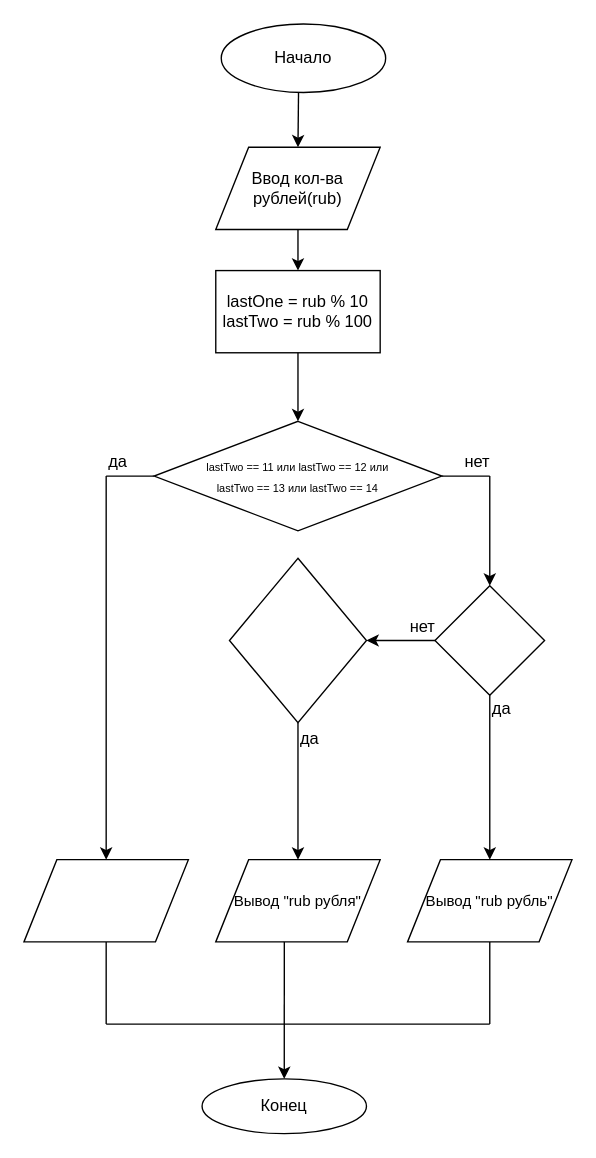
The diagram is 596 pixels wide and 1158 high, and some of its shapes have lost their labels. Each missing label, with the box of its shape:
lastOne == 1: (434, 584, 545, 695)
lastOne == 2 или lastOne == 3 или lastOne == 4: (228, 557, 366, 723)
Вывод "rub рублей": (23, 858, 188, 942)
